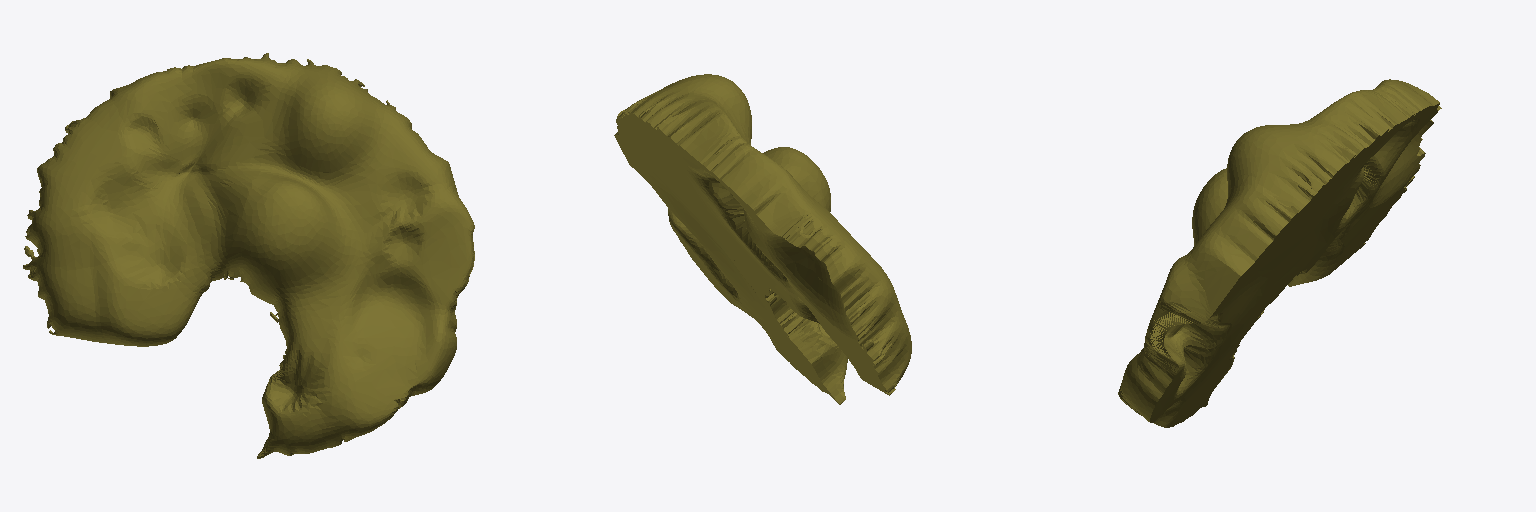
The model's file is row1.obj.
3 renders of one model, left to right at view 1: azimuth 30°, elevation 25°; view 2: azimuth 150°, elevation 25°; view 3: azimuth 270°, elevation 25°, orthographic.
Parts seen in each view (by area): view 1: row_1; view 2: row_1; view 3: row_1.
Boxes of the visible parts, <box> form: row_1: <box>23,53,474,458</box>; row_1: <box>614,74,911,404</box>; row_1: <box>1118,79,1441,427</box>.
Size of the model in its own units: 4.44 by 4.09 by 3.58.